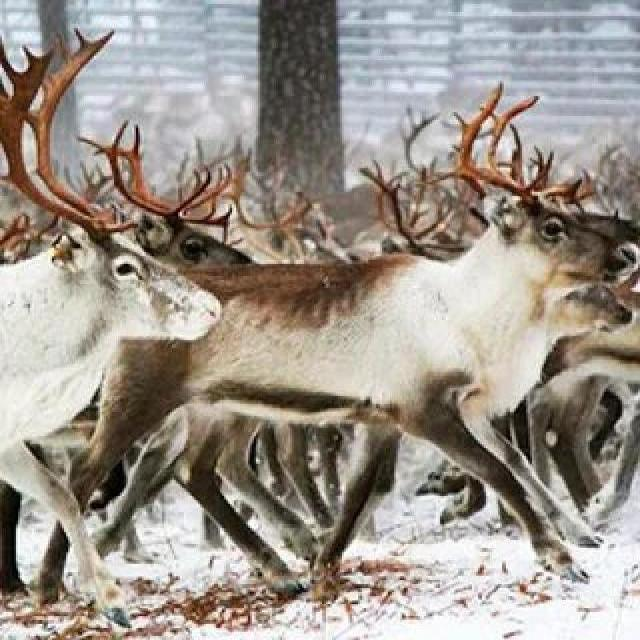deer: (100, 156, 640, 460), (0, 191, 231, 430)
